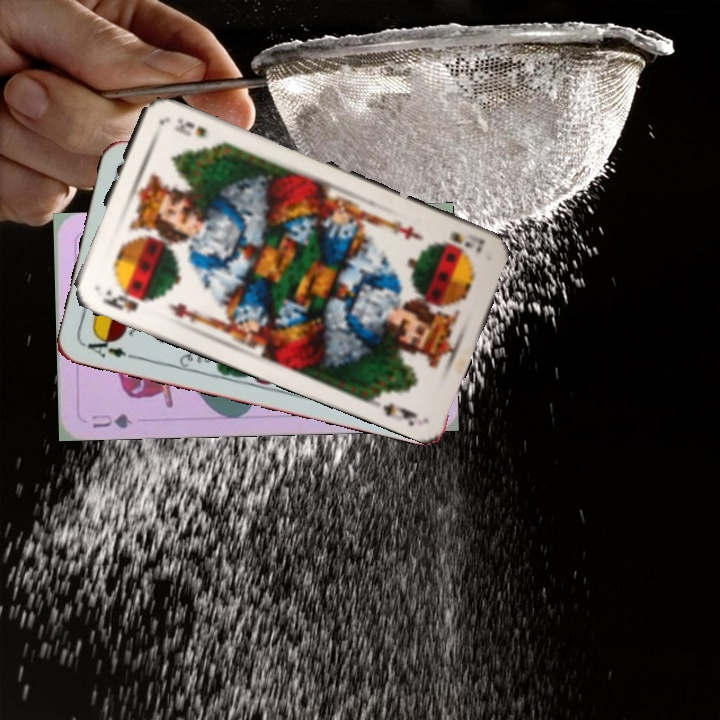EA: (83, 331, 140, 362)
GU: (88, 409, 134, 431)
SK: (98, 285, 154, 317), (446, 227, 487, 256)
